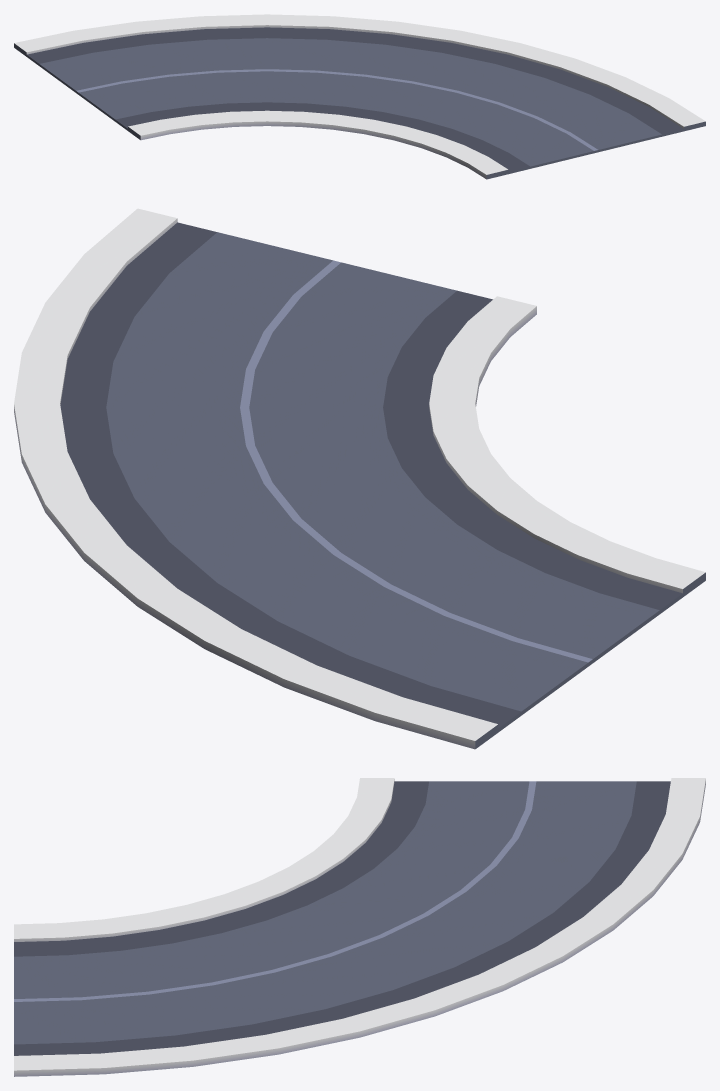
Rendered from road-curve.glb.
The picture shows the model from 3 angles, top to bottom: view 1: azimuth 30°, elevation 25°; view 2: azimuth 150°, elevation 25°; view 3: azimuth 270°, elevation 25°; orthographic projection. The views are drawn at different scales.
Visible parts, largest first — view 1: road-curve; view 2: road-curve; view 3: road-curve.
Part boxes in pixels (x1=…): road-curve: x1=14, y1=14, x2=705, y2=179; road-curve: x1=14, y1=208, x2=705, y2=749; road-curve: x1=14, y1=778, x2=705, y2=1076.
Size of the model in its own units: 2 by 0.02 by 2.
Materials: 1 (1 with a texture image).
